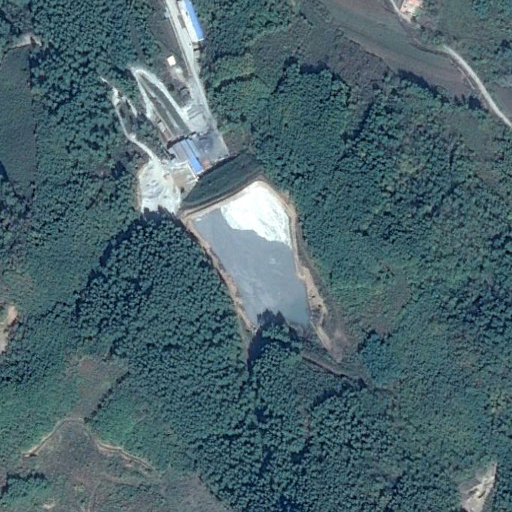tp: (182, 152, 320, 336)
